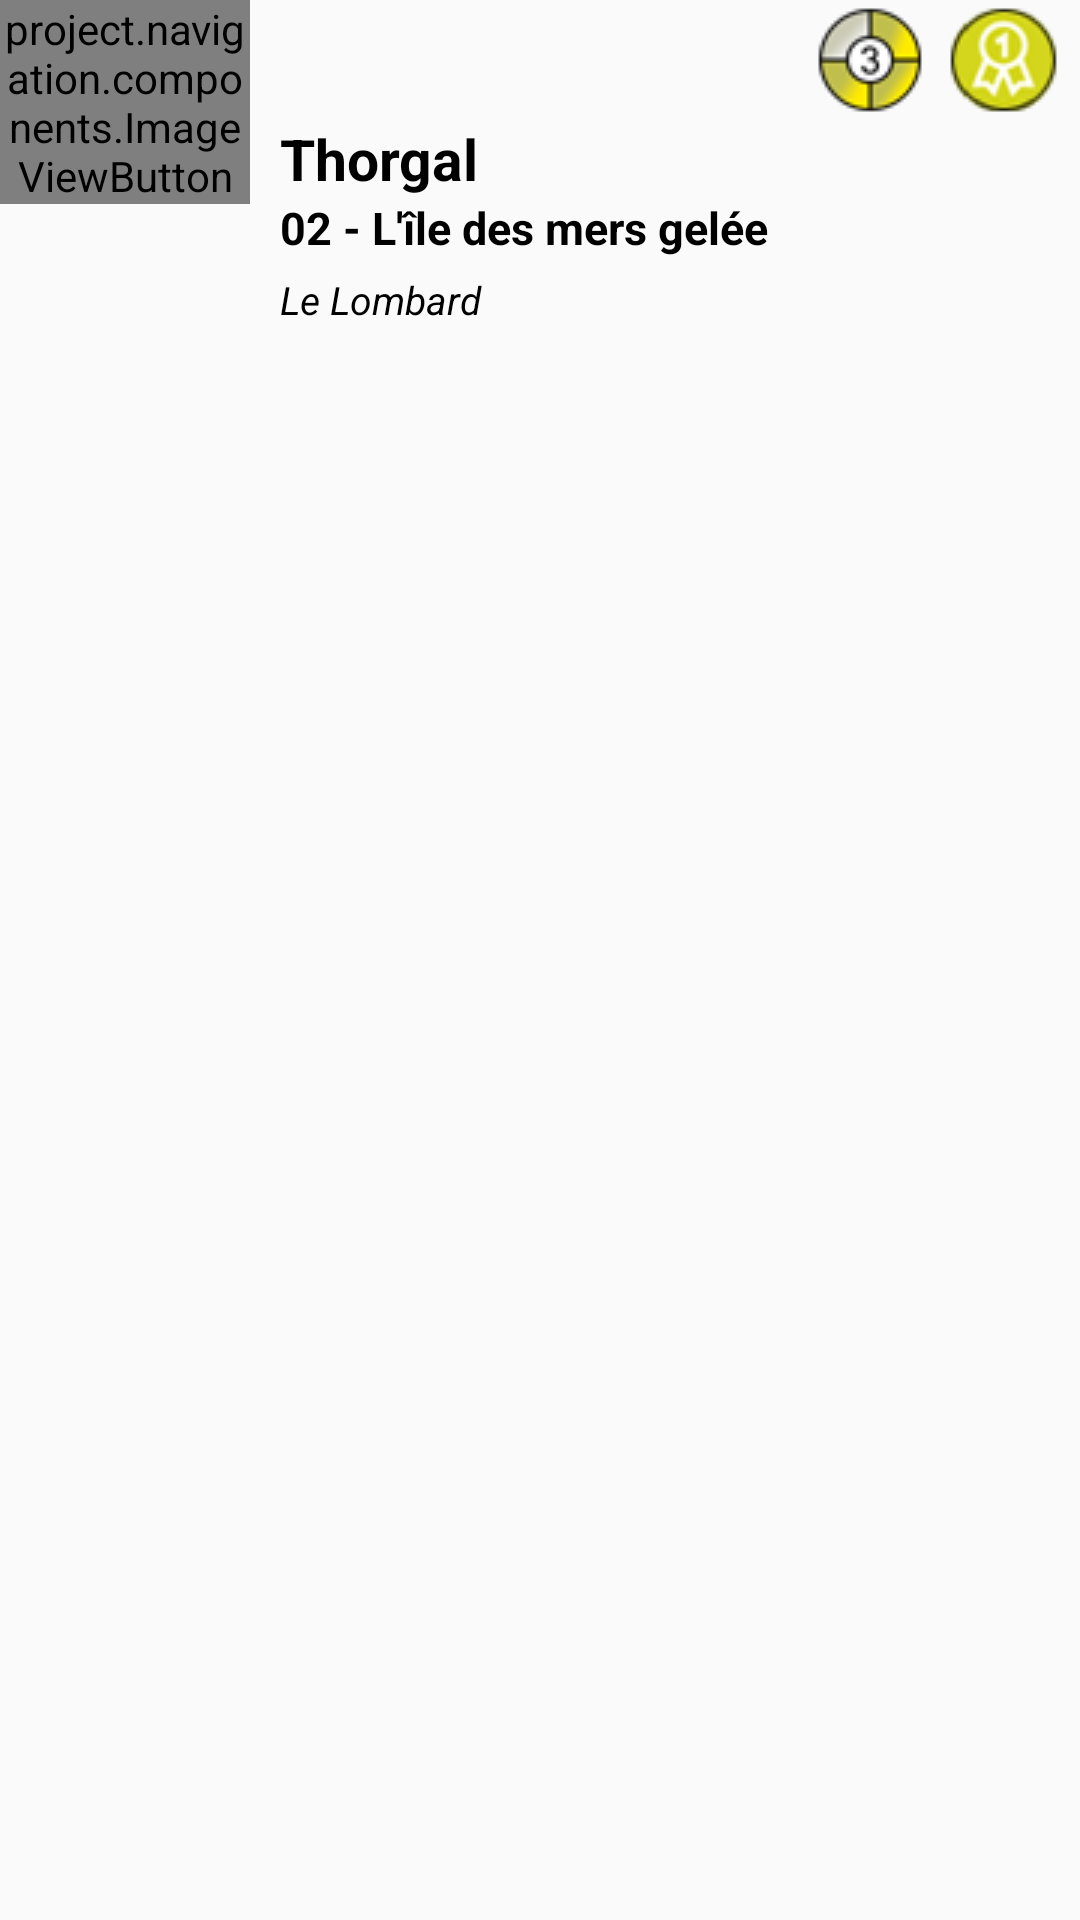

Where to tap for icons on this 1080 x 1920 app screen, as (x=x, y=y):
first edition: (x=1003, y=60)
